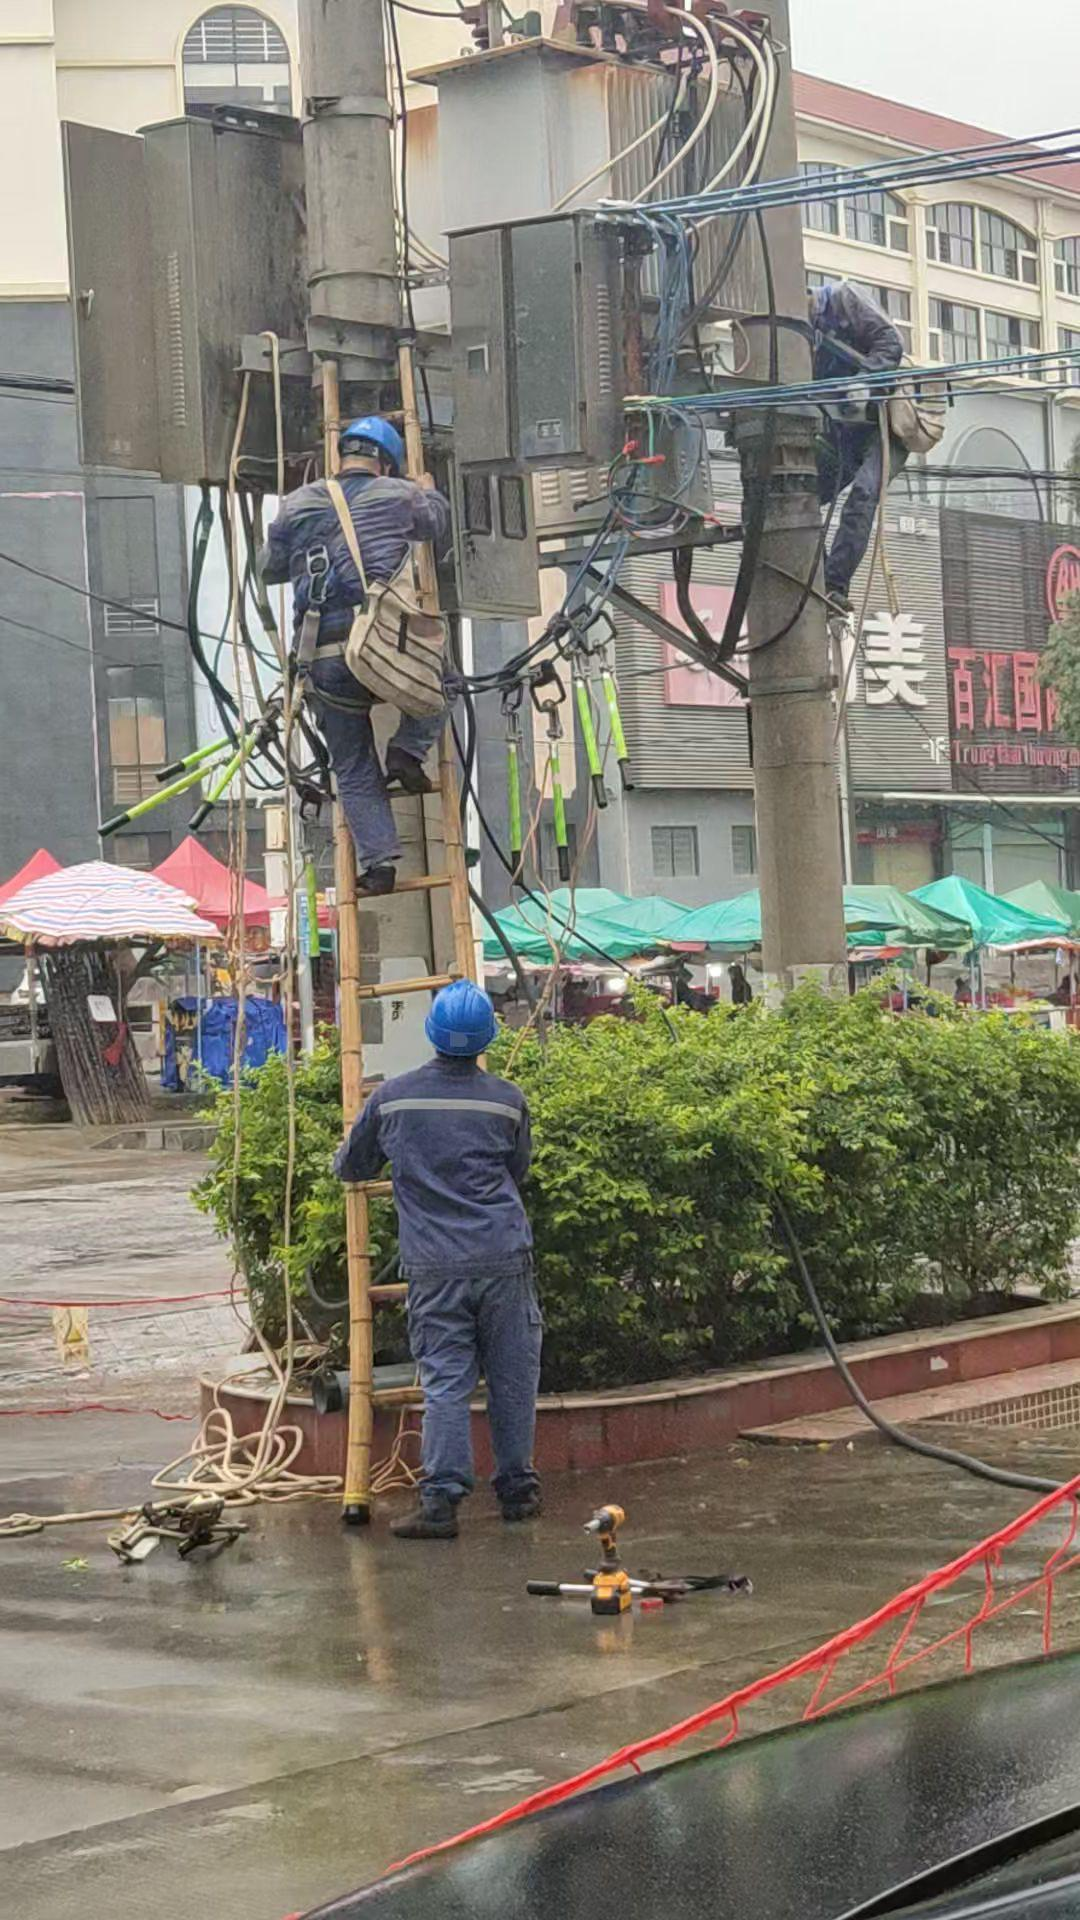halt: (427, 982, 500, 1060), (338, 419, 407, 479)
